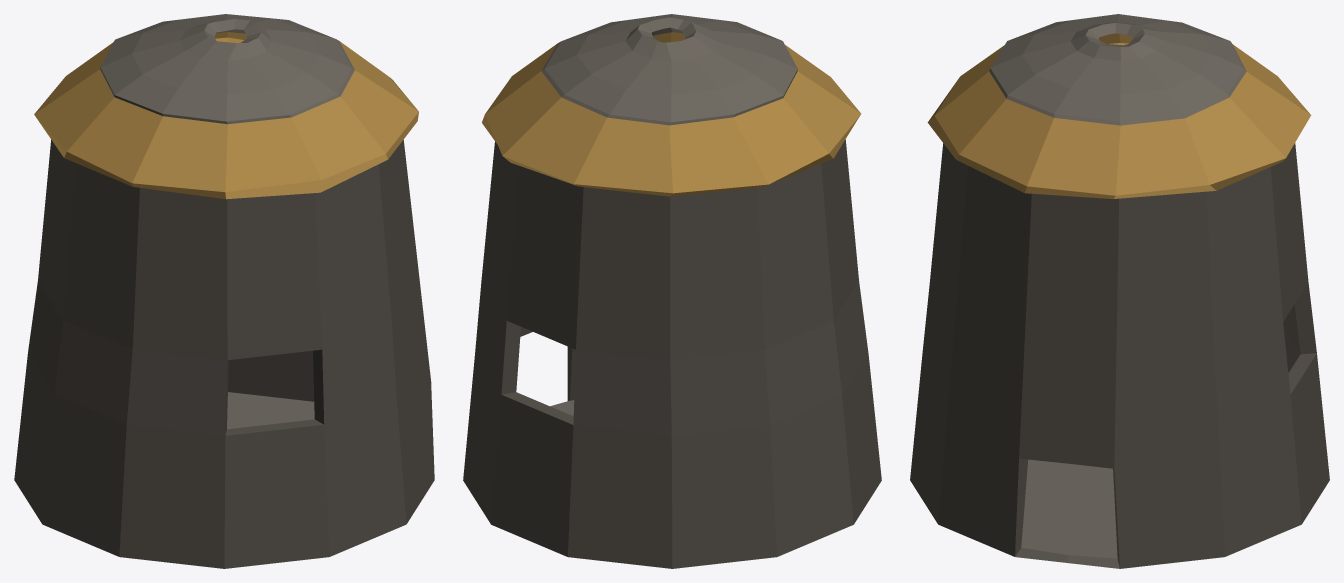
File: forest_people_house_02.fbx
3 renders of one model, left to right at view 1: azimuth 30°, elevation 25°; view 2: azimuth 150°, elevation 25°; view 3: azimuth 270°, elevation 25°, orthographic.
Parts seen in each view (by area): view 1: Cylinder; view 2: Cylinder; view 3: Cylinder.
Boxes of the visible parts, box(x1,y1,x2,y2) form: Cylinder: box(14, 14, 434, 568); Cylinder: box(463, 14, 881, 568); Cylinder: box(910, 14, 1329, 568).
Bounding box in the file's own units: 382 × 450 × 382.
